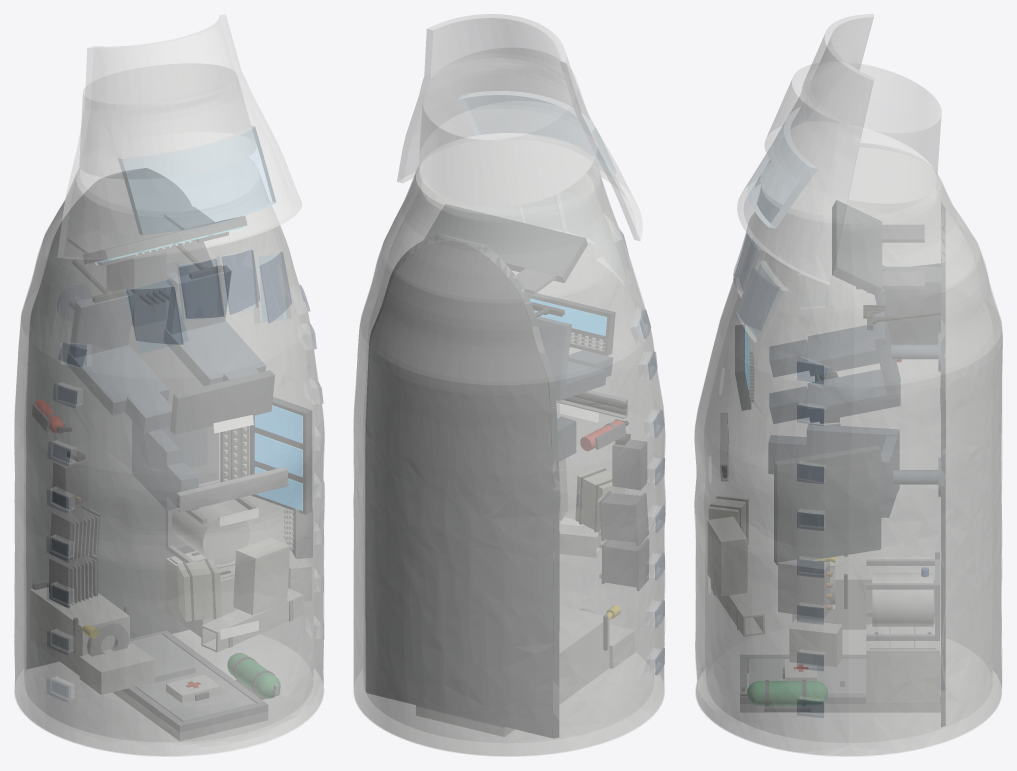
Rendered from cockpit04_inline_droop_cockpit_droop_combined.glb.
3 views of the same model, side by side, from view 1: azimuth 30°, elevation 25°; view 2: azimuth 150°, elevation 25°; view 3: azimuth 270°, elevation 25° (orthographic).
Visible parts, largest first — view 1: pressure_vessel, ext_fuselage, cabin_floor, ext_visor_frame, ext_nose_hinge_section, ext_windows, ext_visor_glass, seat_1, seat_2, seat_3, eq22_1_body, overhead_panel (+29 smaller); view 2: pressure_vessel, ext_fuselage, cabin_floor, ext_nose_hinge_section, ext_visor_frame, main_panel, ext_visor_glass, eq22_1_body, seat_1, ext_windows, eq15_1_body, eq02_2_chassis (+12 smaller); view 3: pressure_vessel, ext_fuselage, ext_nose_hinge_section, ext_visor_frame, engineer_panel, seat_2, ext_windows, seat_3, eq21_1_body, seat_1, main_panel, ext_visor_glass (+20 smaller).
Boxes of the visible parts, x1,y1,x2,y2 form: pressure_vessel: (14,159,323,755); ext_fuselage: (14,157,324,756); cabin_floor: (26,168,218,668); ext_visor_frame: (57,14,301,259); ext_nose_hinge_section: (79,63,256,178); ext_windows: (46,249,324,702); ext_visor_glass: (118,126,275,234); seat_1: (57,284,171,432); seat_2: (163,260,265,385); seat_3: (132,421,207,509); eq22_1_body: (30,587,129,675); overhead_panel: (170,370,274,434); pressure_vessel: (353,139,664,755); ext_fuselage: (353,133,665,756); cabin_floor: (365,233,560,738); ext_nose_hinge_section: (419,48,596,206); ext_visor_frame: (397,14,642,240); main_panel: (424,204,587,282); ext_visor_glass: (458,95,616,173); eq22_1_body: (559,606,609,703); seat_1: (536,317,612,400); ext_windows: (619,229,665,674); eq15_1_body: (613,439,646,489); eq02_2_chassis: (602,493,640,541); pressure_vessel: (695,147,1002,755); ext_fuselage: (694,143,1001,756); ext_nose_hinge_section: (764,62,941,203); ext_visor_frame: (737,14,873,284); engineer_panel: (774,446,880,565); seat_2: (769,312,940,423); ext_windows: (733,215,823,717); seat_3: (768,424,940,517); eq21_1_body: (866,625,939,703); seat_1: (769,265,896,376); main_panel: (832,200,881,296); ext_visor_glass: (748,123,817,228).
Size of the model in its own units: 2.52 by 5.88 by 2.51.
